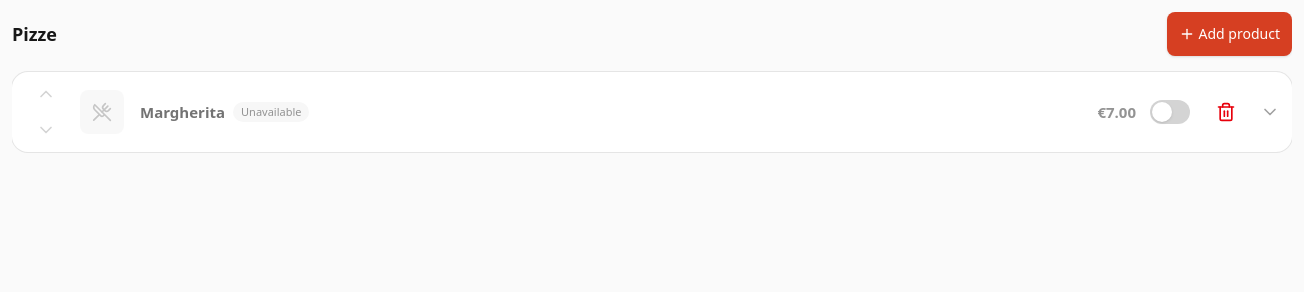
Scenario: ProductList › marks unavailable products and shows the description
Expected: the text "Unavailable" is shown, [233,102,309,122]
Expected: the text "Tomato and mozzarella" is not shown
Click the button "Margherita Unavailable": click(183, 112) [136,90,1085,134]
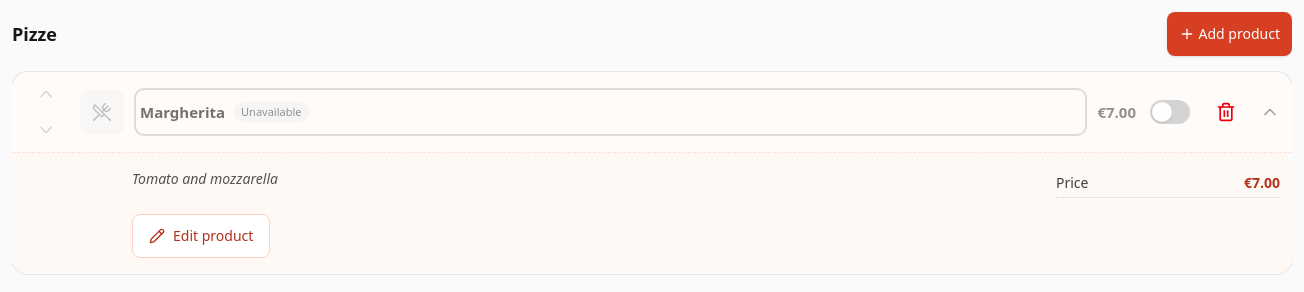
Result: the text "Tomato and mozzarella" is shown once at [132,169,278,188]
